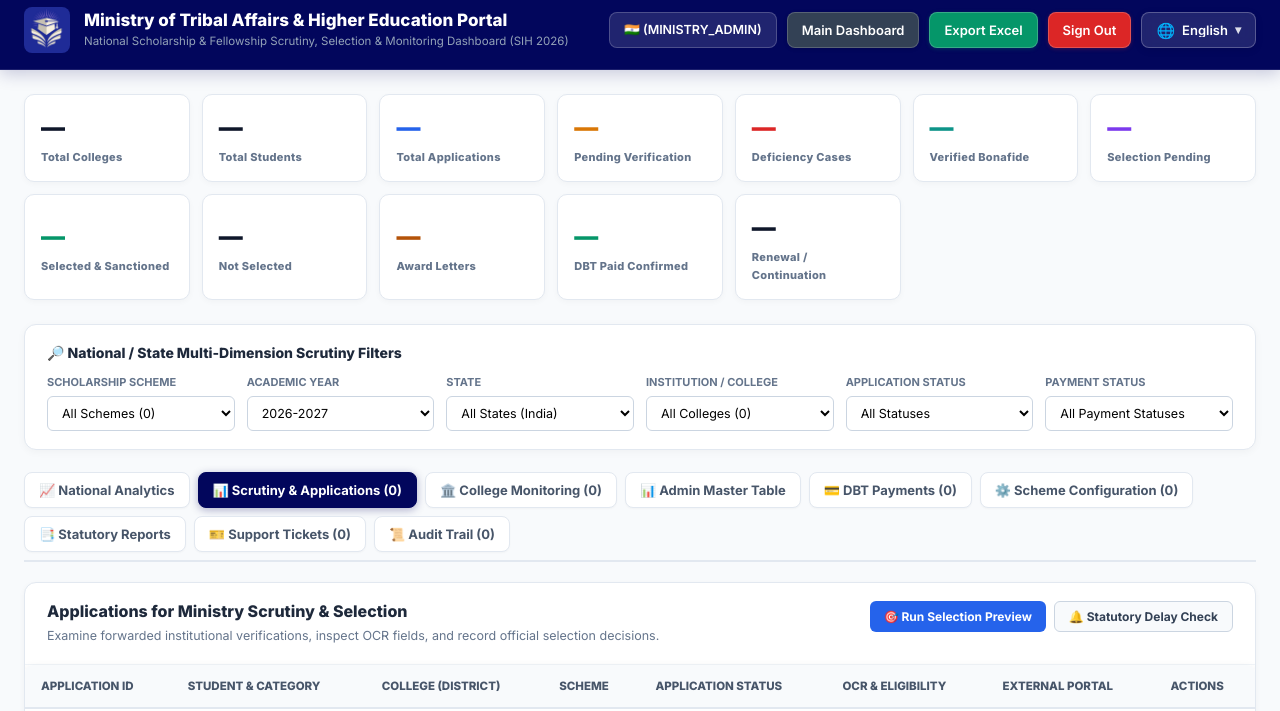
Scenario: MinistryDashboard Analytics & Formatting Verification (SIH26239) › Scenario 5: API failure renders error state cleanly without white screen crash
Click the button "📈 National Analytics": (107, 490) [24,472,190,508]
(page scrolled)
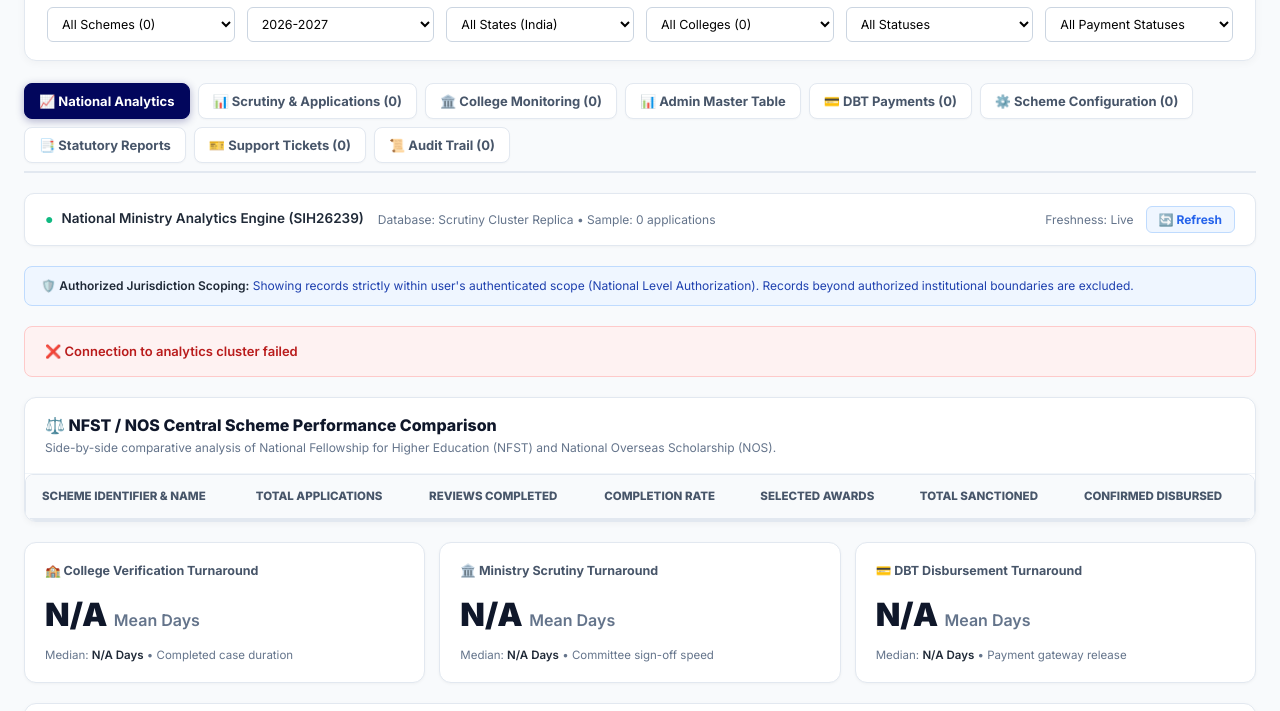
Expected: the text "❌ Connection to analytics cluster failed" is shown, [24,326,1256,377]
